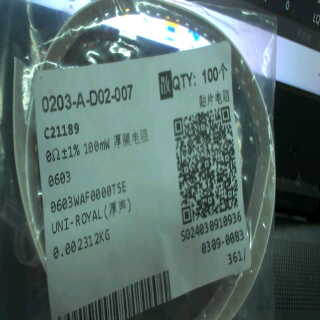0R: (45, 134, 109, 187)
